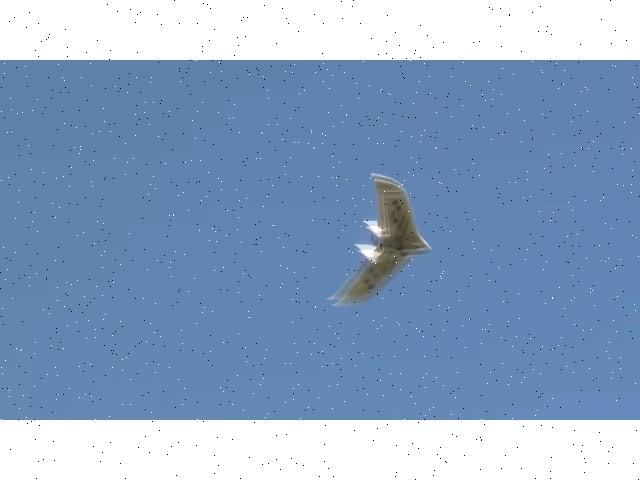Anti-Drone: (335, 178, 433, 302)
